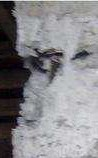Spalling: (12, 47, 66, 131), (70, 49, 93, 62)
